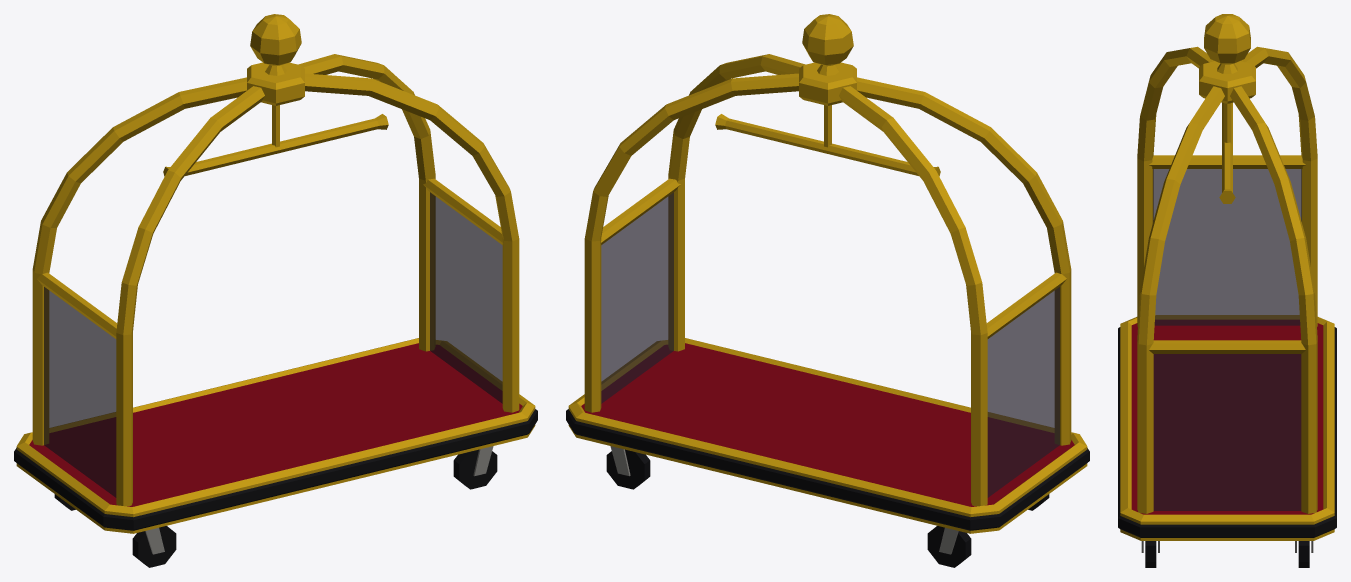
The model's file is brass-luggage-cart-e9f20a.glb.
3 views of the same model, side by side, from view 1: azimuth 30°, elevation 25°; view 2: azimuth 150°, elevation 25°; view 3: azimuth 270°, elevation 25° (orthographic).
Visible parts, largest first — view 1: cart-body, end-glass, tyre-fl, tyre-fr; view 2: cart-body, end-glass, tyre-rl, tyre-rr; view 3: cart-body, end-glass, tyre-fr, tyre-rr.
Part boxes in pixels (x1,y1,x2,y2): cart-body: [14, 14, 537, 533]; end-glass: [44, 192, 502, 497]; tyre-fl: [132, 526, 176, 567]; tyre-fr: [453, 449, 497, 489]; cart-body: [566, 14, 1089, 533]; end-glass: [601, 192, 1059, 497]; tyre-rl: [927, 526, 971, 567]; tyre-rr: [606, 449, 650, 489]; cart-body: [1118, 14, 1336, 540]; end-glass: [1153, 169, 1301, 510]; tyre-fr: [1145, 541, 1156, 567]; tyre-rr: [1298, 541, 1309, 567].
Size of the model in its own units: 1.8 by 1.9 by 0.8.
